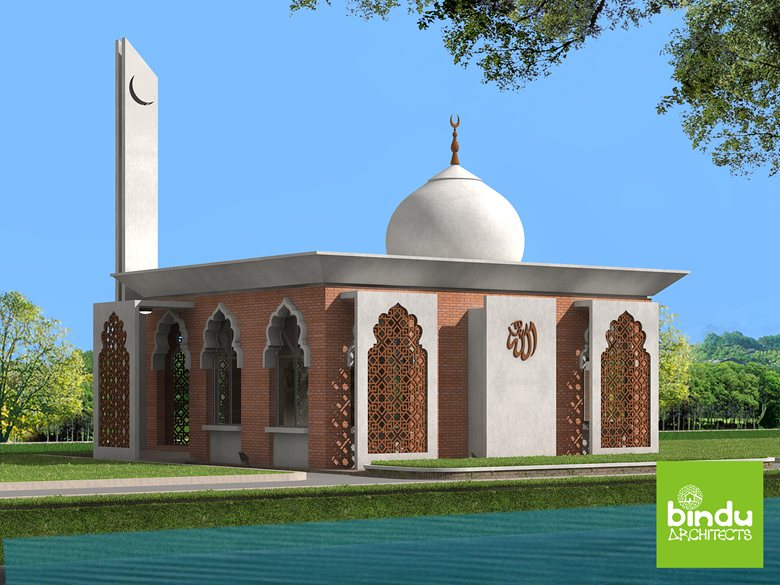Mosque: (88, 36, 693, 461)
